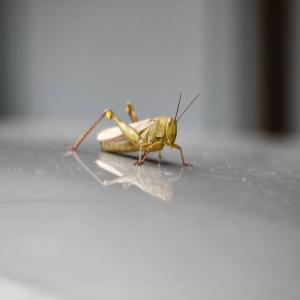locust: (72, 64, 195, 174)
